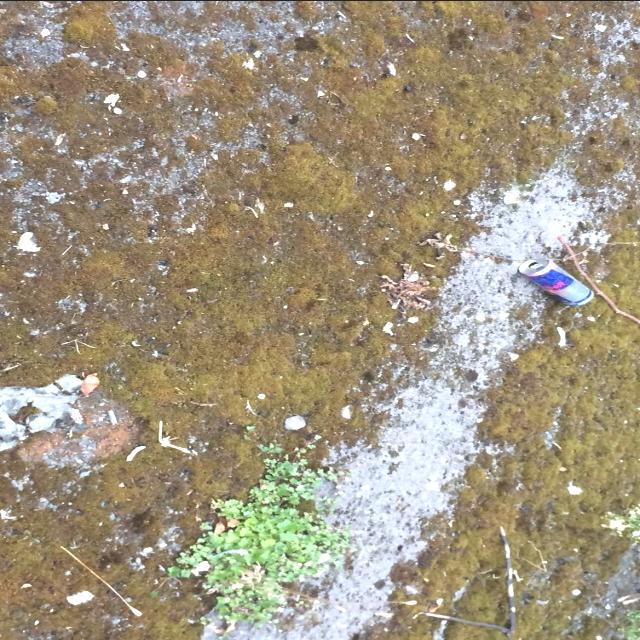Drink can: (518, 257, 593, 305)
